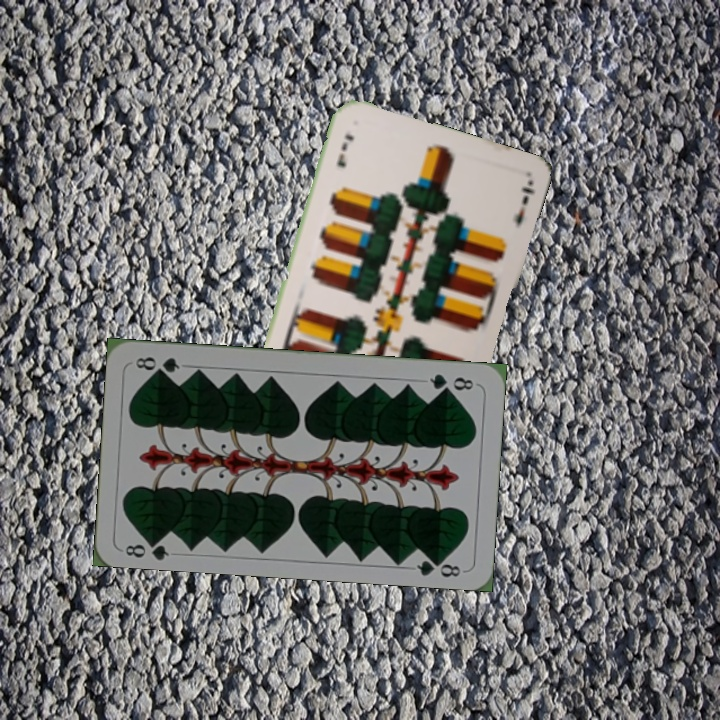E7: (332, 129, 356, 170)
G8: (121, 533, 172, 562), (425, 369, 476, 394)
